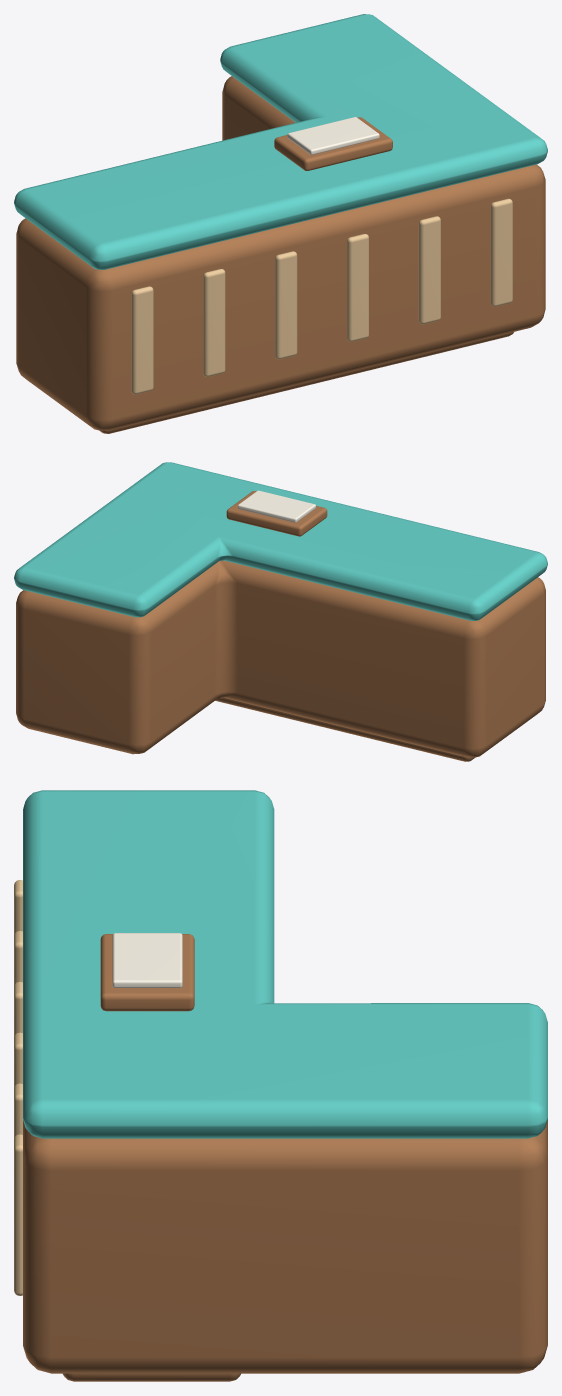
Rendered from counter-l.glb.
3 renders of one model, top to bottom at view 1: azimuth 30°, elevation 25°; view 2: azimuth 150°, elevation 25°; view 3: azimuth 270°, elevation 25°, orthographic. The views are drawn at different scales.
Visible parts, largest first — view 1: L counter warm carcass, Coral counter crown, Counter fluted inlay.002, Counter fluted inlay.005, Counter fluted inlay, Counter fluted inlay.001, Counter fluted inlay.004, Counter fluted inlay.003, Counter letter tray, Tray stationery, Counter recessed toe; view 2: L counter warm carcass, Coral counter crown, Counter letter tray, Tray stationery, Counter recessed toe; view 3: L counter warm carcass, Coral counter crown, Tray stationery, Counter letter tray, Counter recessed toe, Counter fluted inlay.005.
Boxes of the visible parts, x1=… form: L counter warm carcass: x1=16, y1=76, x2=545, y2=430; Coral counter crown: x1=14, y1=14, x2=547, y2=269; Counter fluted inlay.002: x1=275, y1=251, x2=297, y2=359; Counter fluted inlay.005: x1=490, y1=198, x2=512, y2=306; Counter fluted inlay: x1=131, y1=286, x2=153, y2=394; Counter fluted inlay.001: x1=203, y1=269, x2=225, y2=376; Counter fluted inlay.004: x1=418, y1=216, x2=440, y2=324; Counter fluted inlay.003: x1=347, y1=233, x2=368, y2=341; Counter letter tray: x1=274, y1=117, x2=392, y2=170; Tray stationery: x1=287, y1=117, x2=379, y2=154; Counter recessed toe: x1=99, y1=332, x2=513, y2=433; L counter warm carcass: x1=16, y1=560, x2=545, y2=757; Coral counter crown: x1=14, y1=462, x2=547, y2=620; Counter letter tray: x1=226, y1=491, x2=327, y2=536; Tray stationery: x1=238, y1=490, x2=315, y2=522; Counter recessed toe: x1=215, y1=698, x2=475, y2=761; L counter warm carcass: x1=23, y1=1119, x2=547, y2=1373; Coral counter crown: x1=23, y1=790, x2=547, y2=1138; Tray stationery: x1=112, y1=933, x2=182, y2=987; Counter letter tray: x1=100, y1=934, x2=194, y2=1011; Counter recessed toe: x1=63, y1=1373, x2=240, y2=1381; Counter fluted inlay.005: x1=14, y1=1134, x2=22, y2=1295.
Size of the model in its own units: 3.5 by 1.61 by 2.44.
